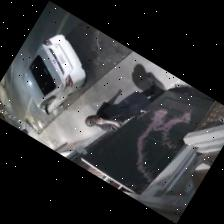person: (85, 81, 162, 130)
